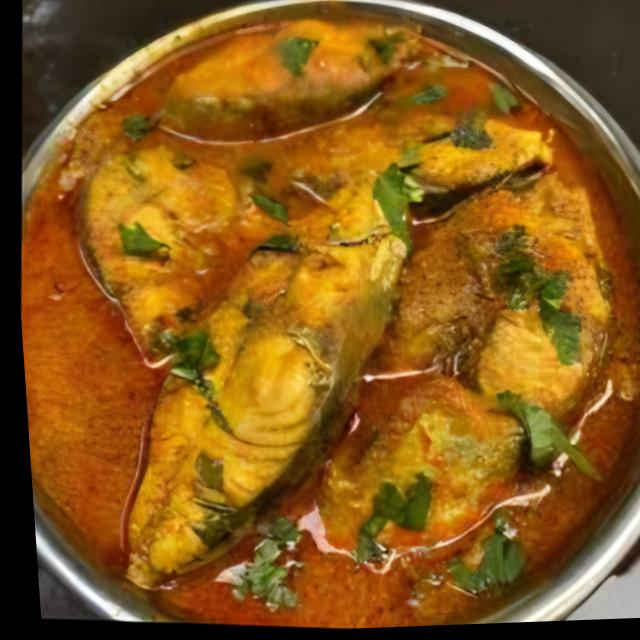FISH CURRY: (22, 18, 640, 625)
